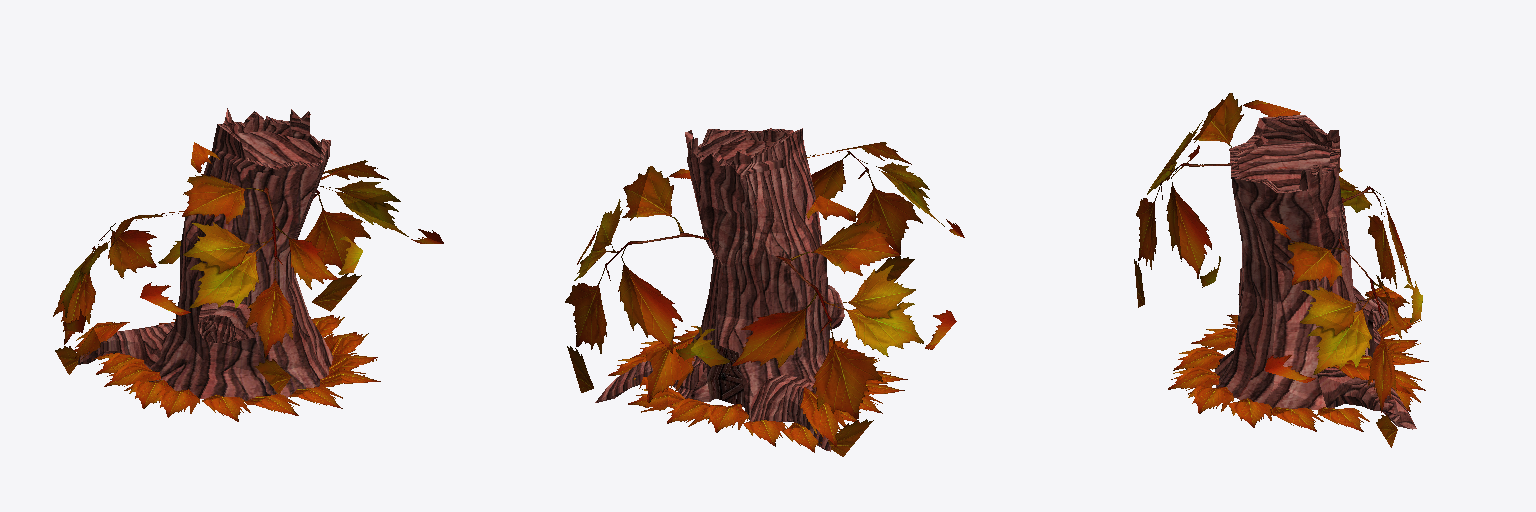
The picture shows the model from 3 angles: view 1: azimuth 30°, elevation 25°; view 2: azimuth 150°, elevation 25°; view 3: azimuth 270°, elevation 25°; orthographic projection.
Parts seen in each view (by area): view 1: treehouse_2; view 2: treehouse_2; view 3: treehouse_2.
Part boxes in pixels (left/top/right/bottom): treehouse_2: left=53, top=108, right=443, bottom=421; treehouse_2: left=565, top=128, right=964, bottom=456; treehouse_2: left=1134, top=93, right=1428, bottom=447.
Size of the model in its own units: 48.45 by 32.93 by 34.74.
3 materials, 3 textured.